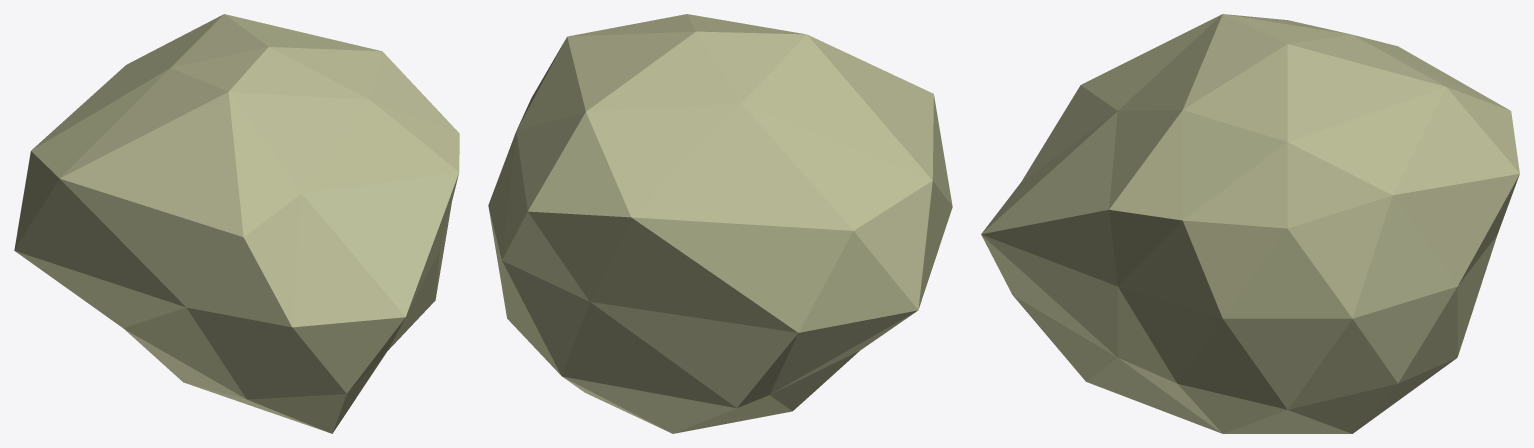
Rendered from Hole Rock.fbx.
3 views of the same model, side by side, from view 1: azimuth 30°, elevation 25°; view 2: azimuth 150°, elevation 25°; view 3: azimuth 270°, elevation 25° (orthographic). The views are drawn at different scales.
Visible parts, largest first — view 1: Hole Rock; view 2: Hole Rock; view 3: Hole Rock.
Boxes of the visible parts, bbox=[...] form: Hole Rock: bbox=[14, 14, 459, 433]; Hole Rock: bbox=[488, 14, 952, 433]; Hole Rock: bbox=[981, 14, 1519, 433].
Size of the model in its own units: 106 by 90.35 by 116.
